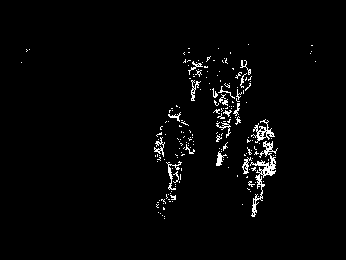person: (155, 107, 195, 218), (242, 119, 277, 219), (213, 84, 241, 167), (188, 60, 202, 101)
